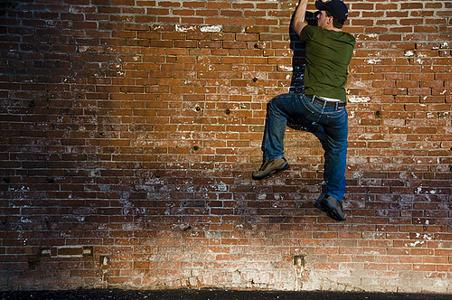person: (251, 1, 357, 222)
